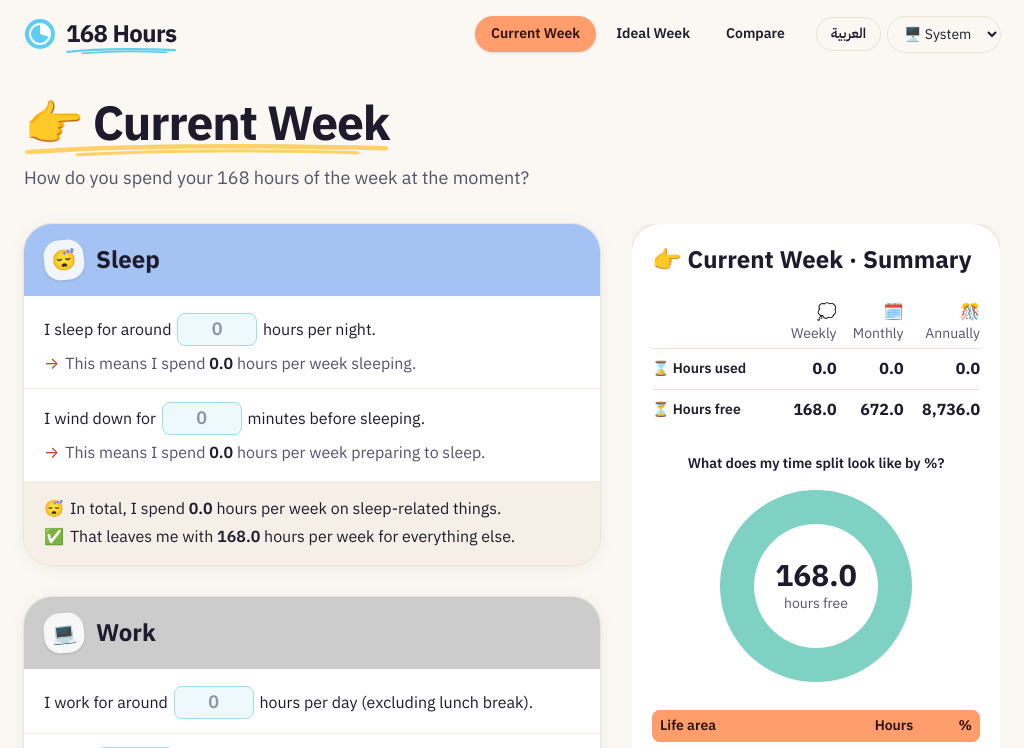
Test: week form › updates results, totals and the running remainder as you type
The width and height of the screenshot is (1024, 748).
In the field labelled "I sleep for around hours per night.": coordinates (217, 329) [177,313,257,346], type "7"
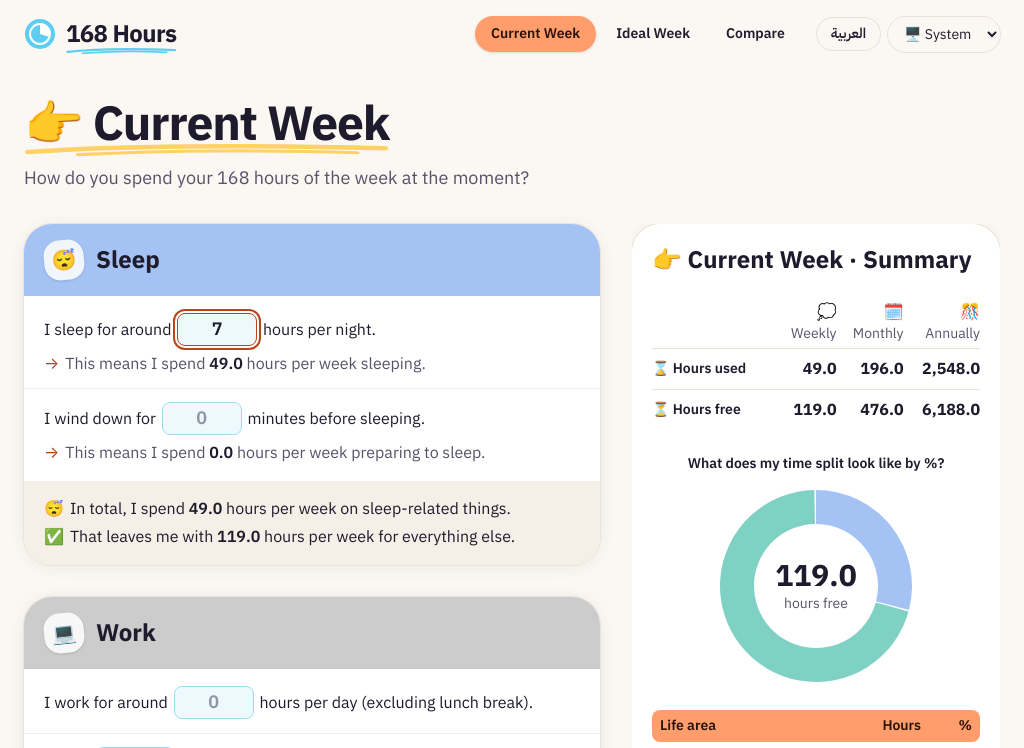
In the field labelled "I wind down for minutes before sleeping.": coordinates (202, 418) [162,402,242,434], type "30"
(page scrolled)
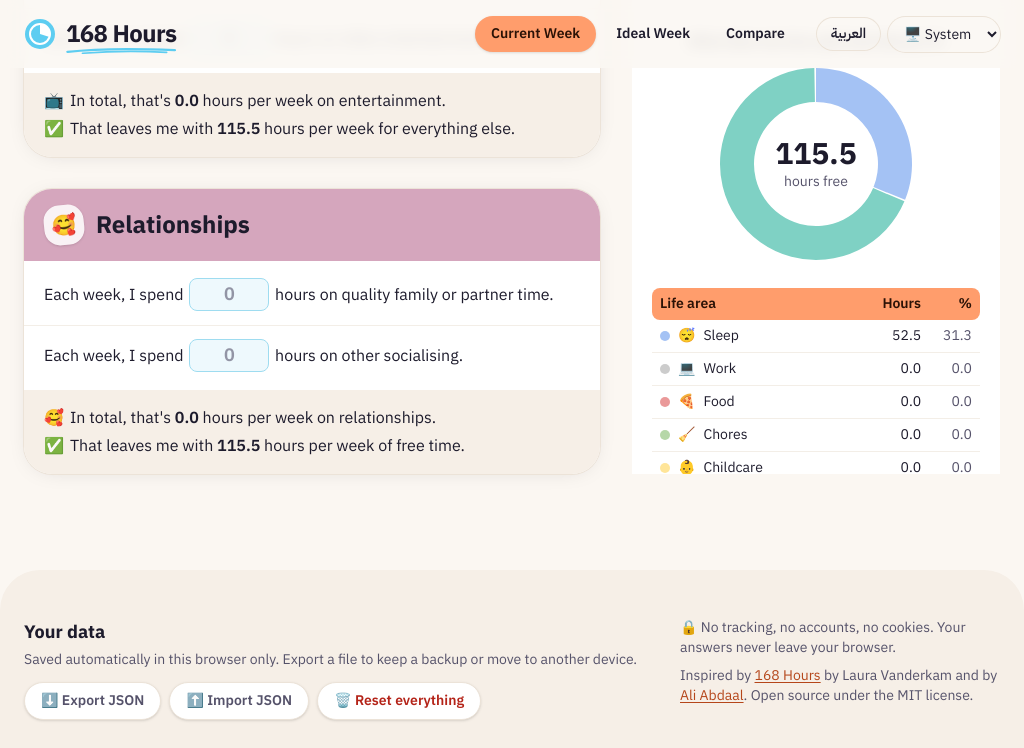
Result: the text "✅That leaves me with 115.5 hours per week of free time." is shown at [44,434,465,458]
